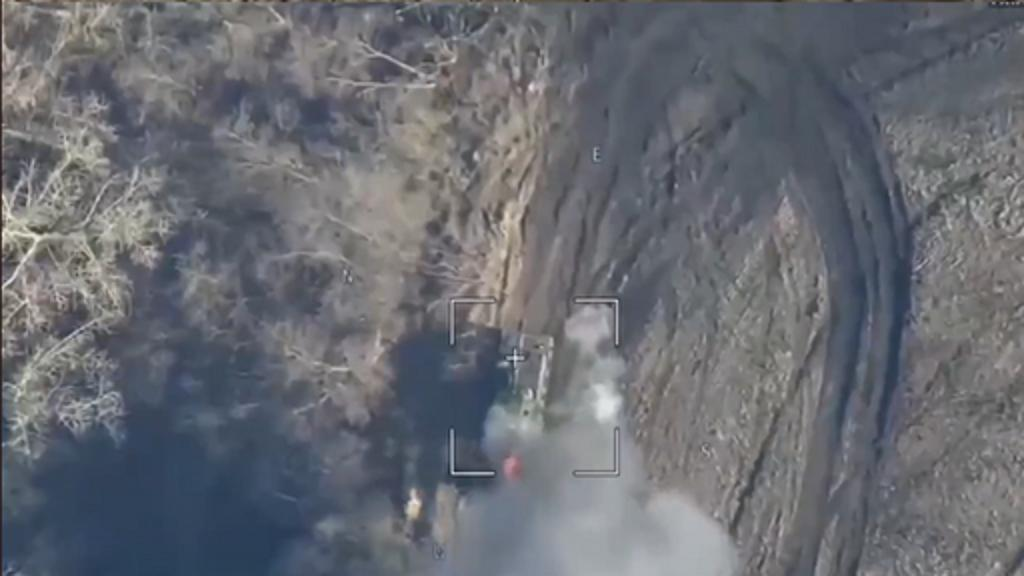ART: (486, 328, 560, 450)
